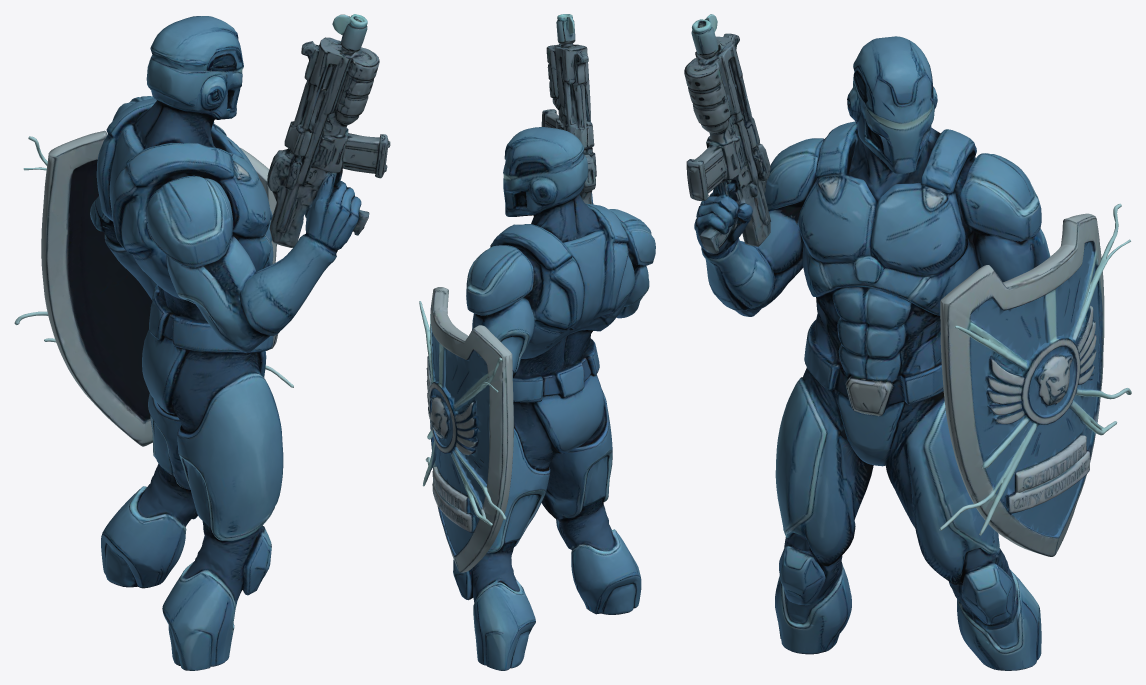
The model's file is sentinel3d.glb.
3 views of the same model, side by side, from view 1: azimuth 30°, elevation 25°; view 2: azimuth 150°, elevation 25°; view 3: azimuth 270°, elevation 25° (orthographic). The views are drawn at different scales.
Parts seen in each view (by area): view 1: tripo_node_ae4fba7e-a146-40bc-9c72-9ec9a619545d; view 2: tripo_node_ae4fba7e-a146-40bc-9c72-9ec9a619545d; view 3: tripo_node_ae4fba7e-a146-40bc-9c72-9ec9a619545d.
Boxes of the visible parts, bbox=[...] form: tripo_node_ae4fba7e-a146-40bc-9c72-9ec9a619545d: bbox=[14, 14, 390, 670]; tripo_node_ae4fba7e-a146-40bc-9c72-9ec9a619545d: bbox=[419, 14, 655, 670]; tripo_node_ae4fba7e-a146-40bc-9c72-9ec9a619545d: bbox=[684, 14, 1131, 670].
Bounding box in the file's own units: 0.3363 × 1 × 0.6013.
1 material, 1 textured.
